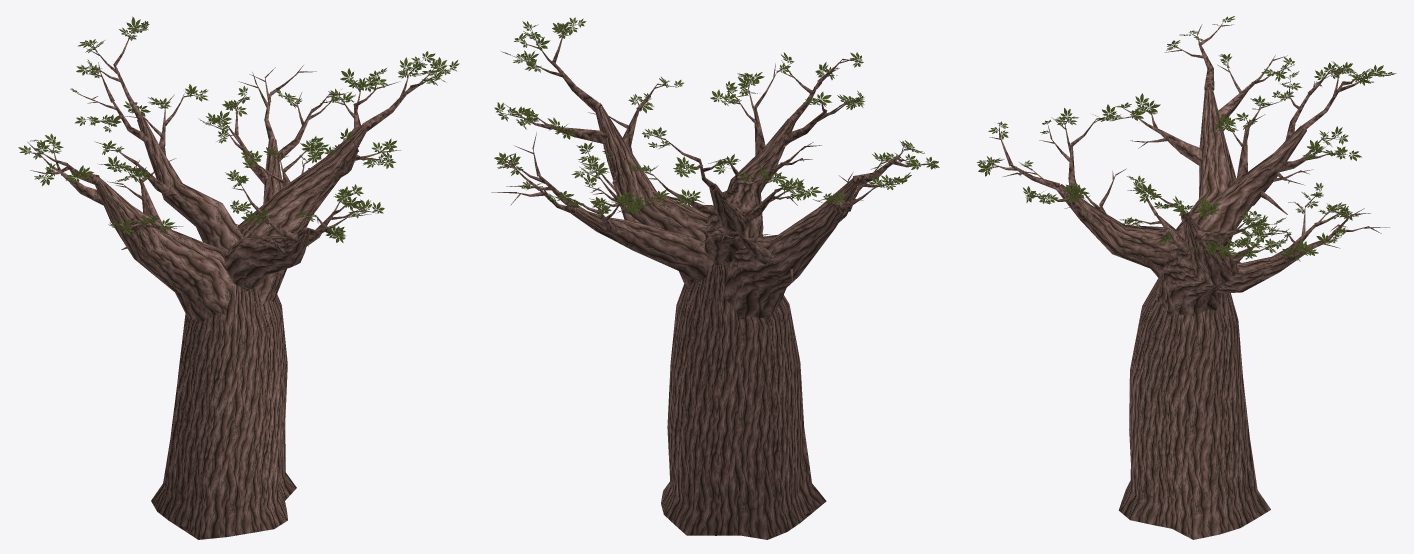
File: Baoba_02_Digitata_Bifurcado.glb
The picture shows the model from 3 angles, left to right: view 1: azimuth 30°, elevation 25°; view 2: azimuth 150°, elevation 25°; view 3: azimuth 270°, elevation 25°; orthographic projection. The views are drawn at different scales.
Parts seen in each view (by area): view 1: Tronco, Bracos principais, Folhas palmadas, Ramos secundarios, Ramos finos, Ponteiras; view 2: Tronco, Bracos principais, Folhas palmadas, Ramos secundarios, Ramos finos, Ponteiras; view 3: Tronco, Bracos principais, Folhas palmadas, Ramos secundarios, Ramos finos, Ponteiras.
Part boxes in pixels (bbox=[...]): Tronco: bbox=[151, 283, 296, 539]; Bracos principais: bbox=[95, 117, 366, 322]; Folhas palmadas: bbox=[18, 16, 459, 242]; Ramos secundarios: bbox=[60, 65, 410, 256]; Ramos finos: bbox=[36, 33, 430, 248]; Ponteiras: bbox=[24, 26, 454, 246]; Tronco: bbox=[661, 264, 826, 539]; Bracos principais: bbox=[571, 106, 857, 320]; Folhas palmadas: bbox=[494, 17, 939, 215]; Ramos secundarios: bbox=[538, 62, 896, 264]; Ramos finos: bbox=[511, 30, 922, 243]; Ponteiras: bbox=[491, 24, 933, 242]; Tronco: bbox=[1118, 278, 1270, 539]; Bracos principais: bbox=[1057, 89, 1306, 316]; Folhas palmadas: bbox=[977, 16, 1396, 261]; Ramos secundarios: bbox=[1011, 44, 1342, 276]; Ramos finos: bbox=[995, 26, 1368, 261]; Ponteiras: bbox=[984, 22, 1389, 257].
Bounding box in the file's own units: 15.32 × 15.07 × 13.36.
2 materials, 2 textured.
